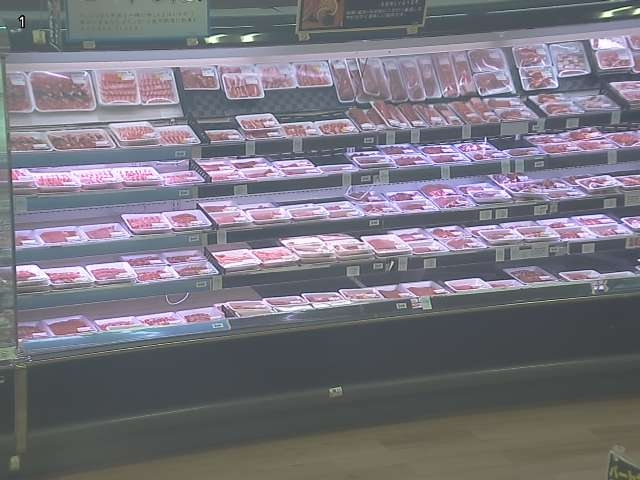meat: (0, 172, 639, 253), (3, 123, 639, 196), (8, 267, 603, 343), (210, 214, 639, 274), (177, 49, 516, 103), (207, 96, 536, 143), (1, 250, 218, 293), (3, 71, 177, 114), (9, 123, 199, 154), (513, 44, 589, 88), (529, 91, 618, 119), (591, 36, 639, 70), (609, 78, 639, 103)
meatless: (4, 250, 639, 324), (8, 87, 369, 128), (466, 207, 638, 225), (7, 216, 120, 230), (558, 72, 638, 91), (38, 257, 122, 269), (206, 240, 283, 253), (268, 153, 348, 163), (487, 138, 531, 148)
